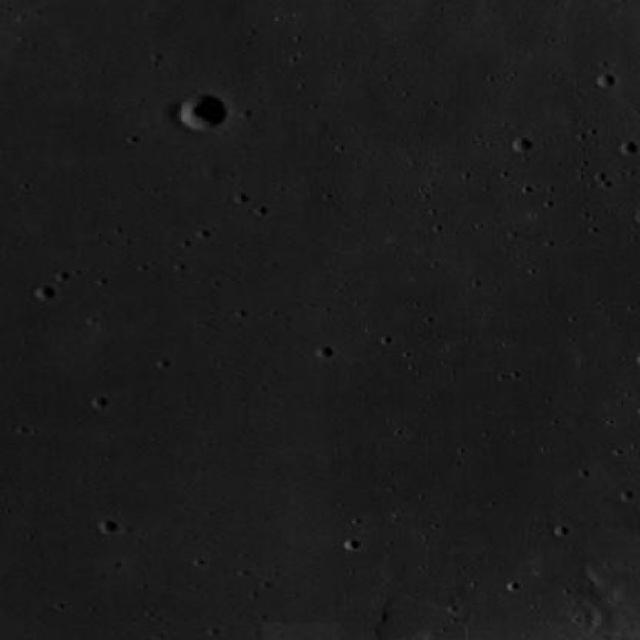crater: (177, 92, 226, 132), (148, 99, 182, 127), (306, 118, 326, 136), (34, 286, 54, 302), (513, 138, 532, 154)
